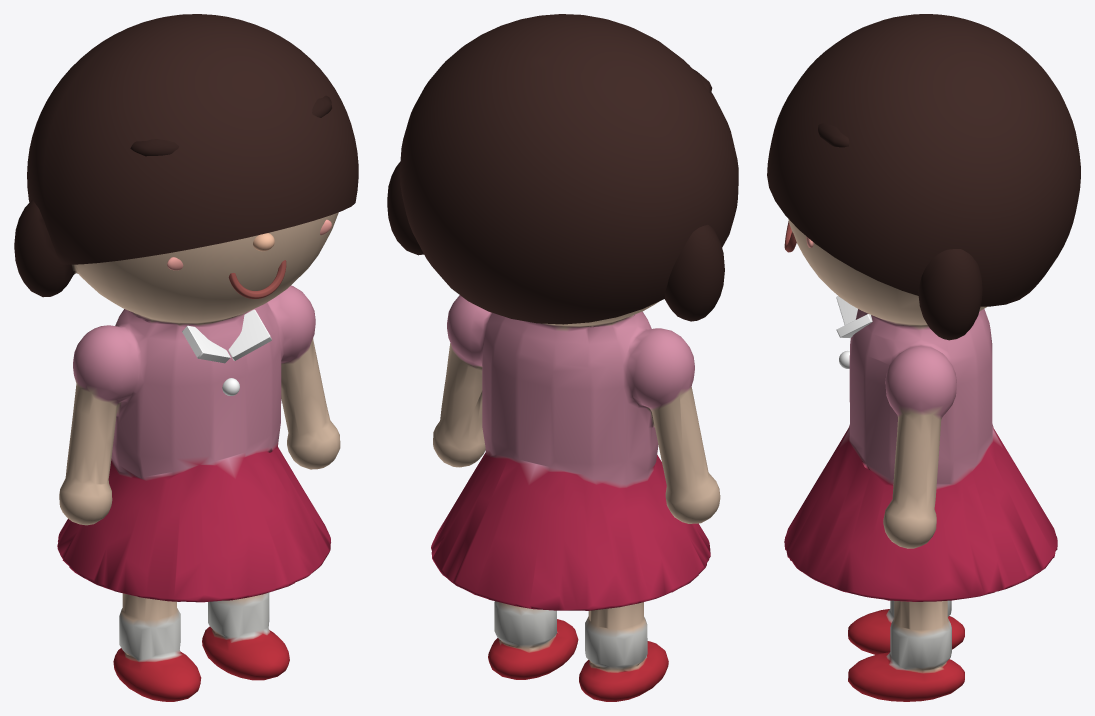
Rendered from dream-figure-shizuka.glb.
The picture shows the model from 3 angles, left to right: view 1: azimuth 30°, elevation 25°; view 2: azimuth 150°, elevation 25°; view 3: azimuth 270°, elevation 25°; orthographic projection. The views are drawn at different scales.
Visible parts, largest first — view 1: dream-figure-shizuka-body, dream-figure-shizuka-details; view 2: dream-figure-shizuka-body, dream-figure-shizuka-details; view 3: dream-figure-shizuka-body, dream-figure-shizuka-details.
Boxes of the visible parts, left/top/right/bottom form: dream-figure-shizuka-body: left=14, top=95, right=340, bottom=701; dream-figure-shizuka-details: left=27, top=14, right=358, bottom=395; dream-figure-shizuka-body: left=387, top=68, right=724, bottom=701; dream-figure-shizuka-details: left=400, top=14, right=738, bottom=324; dream-figure-shizuka-body: left=784, top=123, right=1057, bottom=701; dream-figure-shizuka-details: left=767, top=14, right=1080, bottom=368.
Bounding box in the file's own units: 1.02 × 1.94 × 0.8582.
